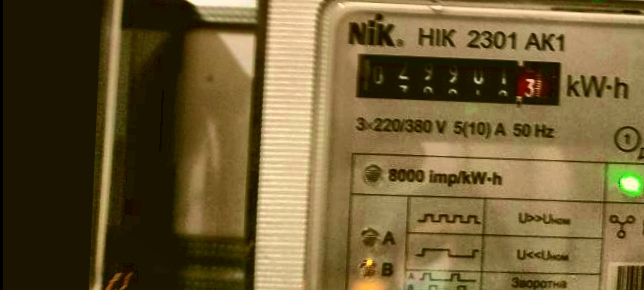0: (471, 61, 486, 86), (370, 63, 387, 85)
1: (496, 63, 510, 86)
2: (395, 61, 412, 81)
3: (523, 75, 537, 98)
9: (446, 62, 461, 84), (421, 61, 434, 83)
screen: (343, 42, 573, 116)
